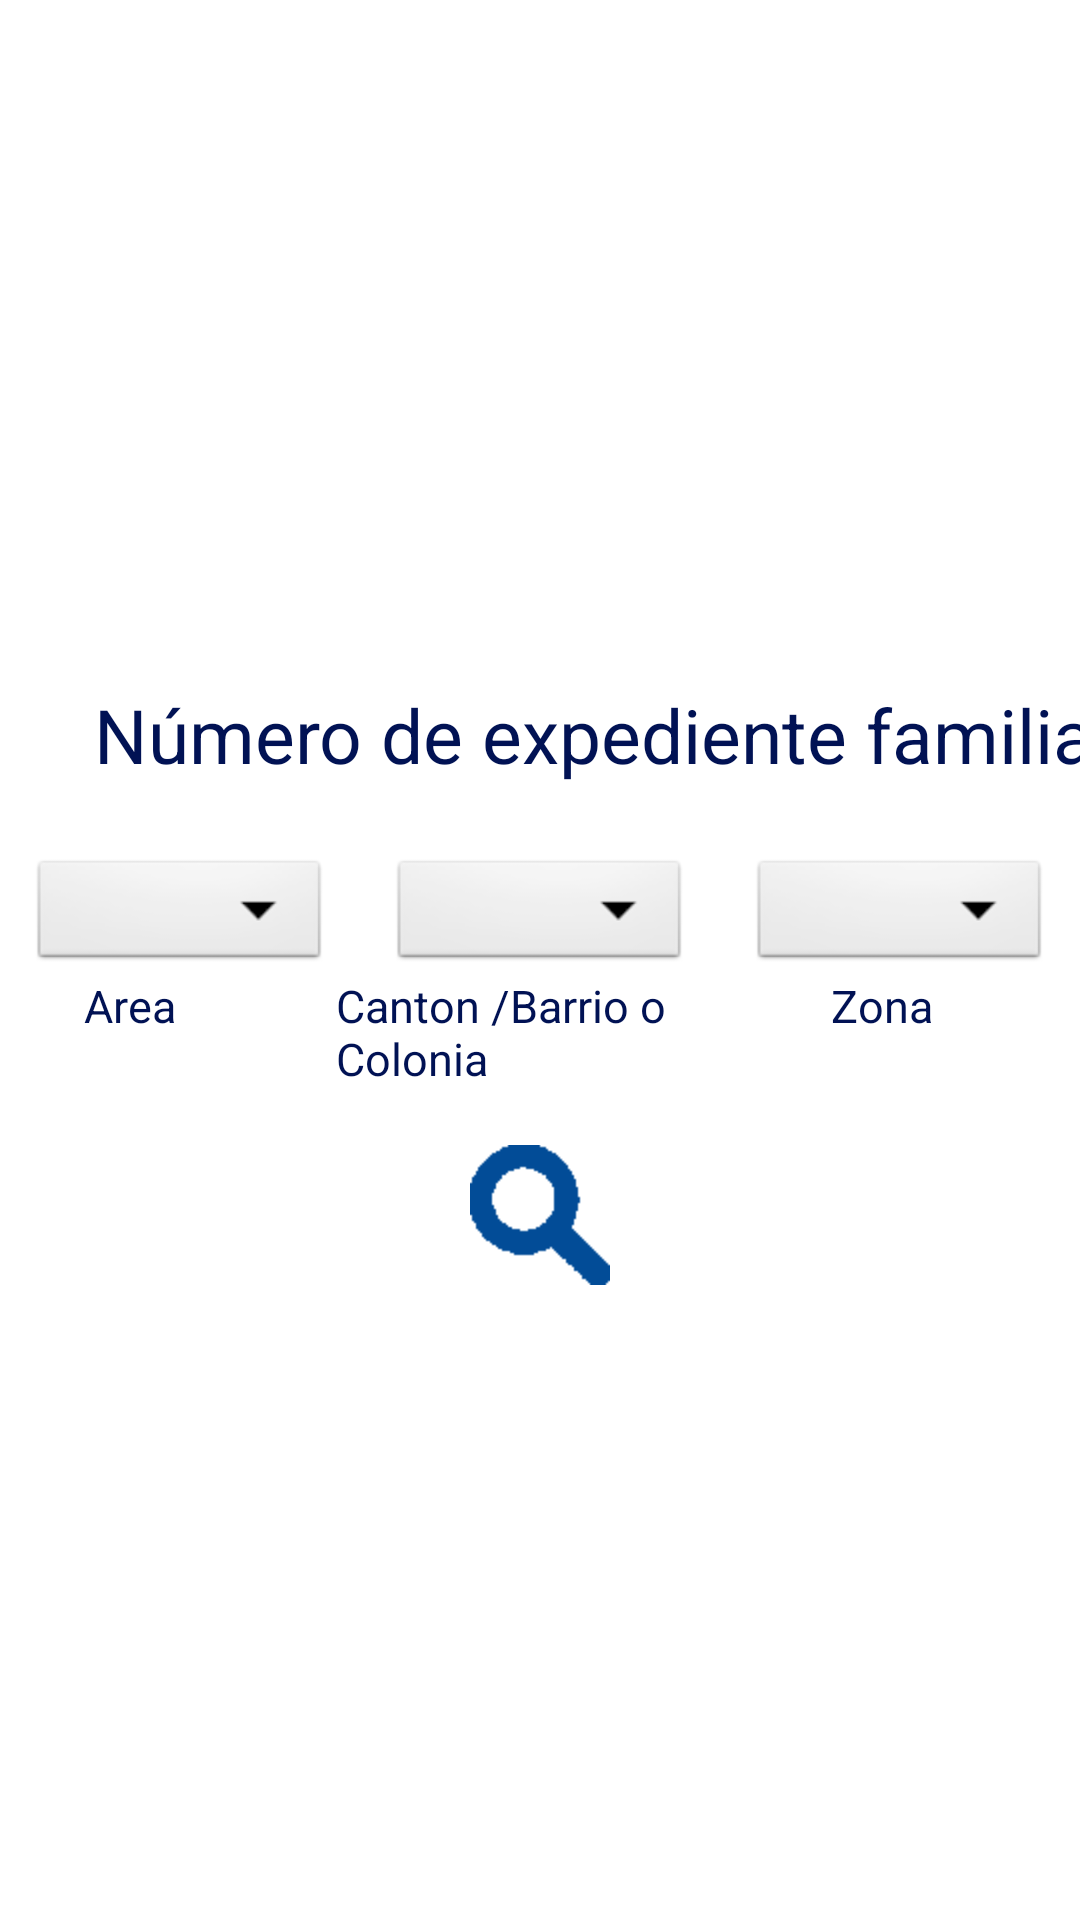

Named icons in this screenshot (1080 x 1920) and their centers, (x=x, y=y):
lupa: (x=540, y=1215)
